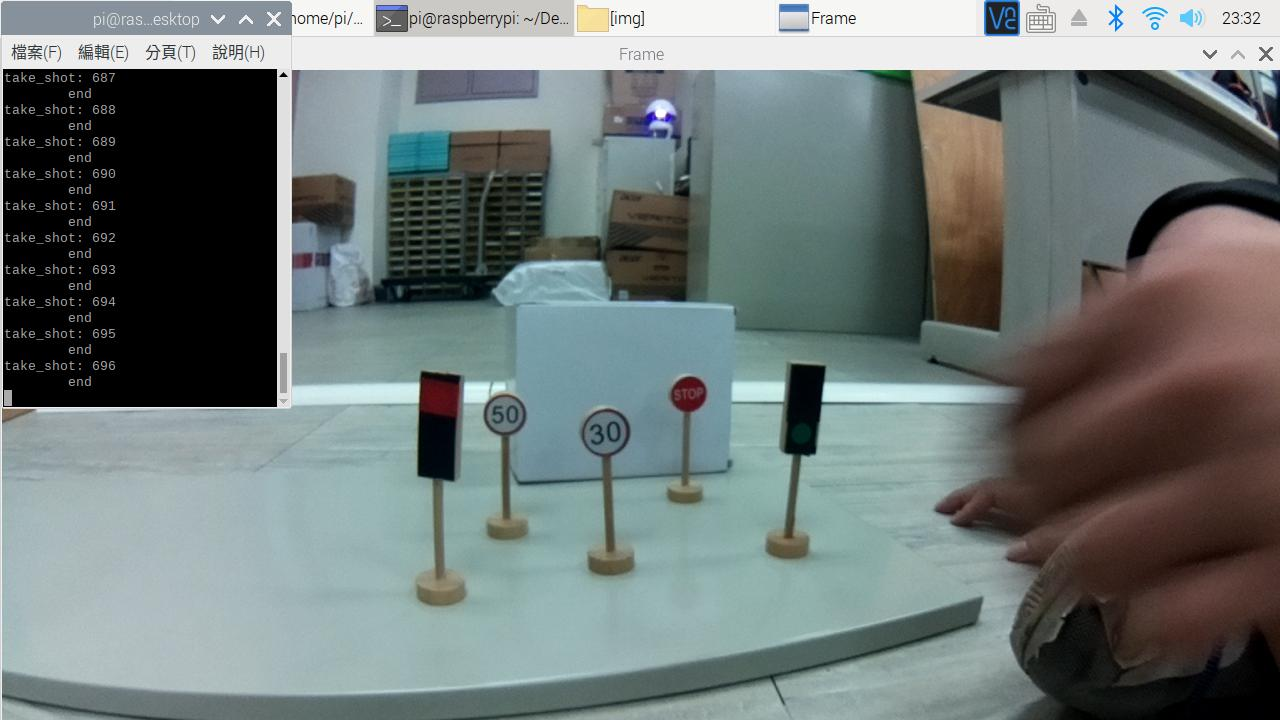Green: (778, 353, 825, 466)
Red: (411, 365, 474, 486)
Speed30: (573, 404, 640, 460)
Speed50: (483, 382, 540, 442)
Stop: (661, 370, 716, 422)
